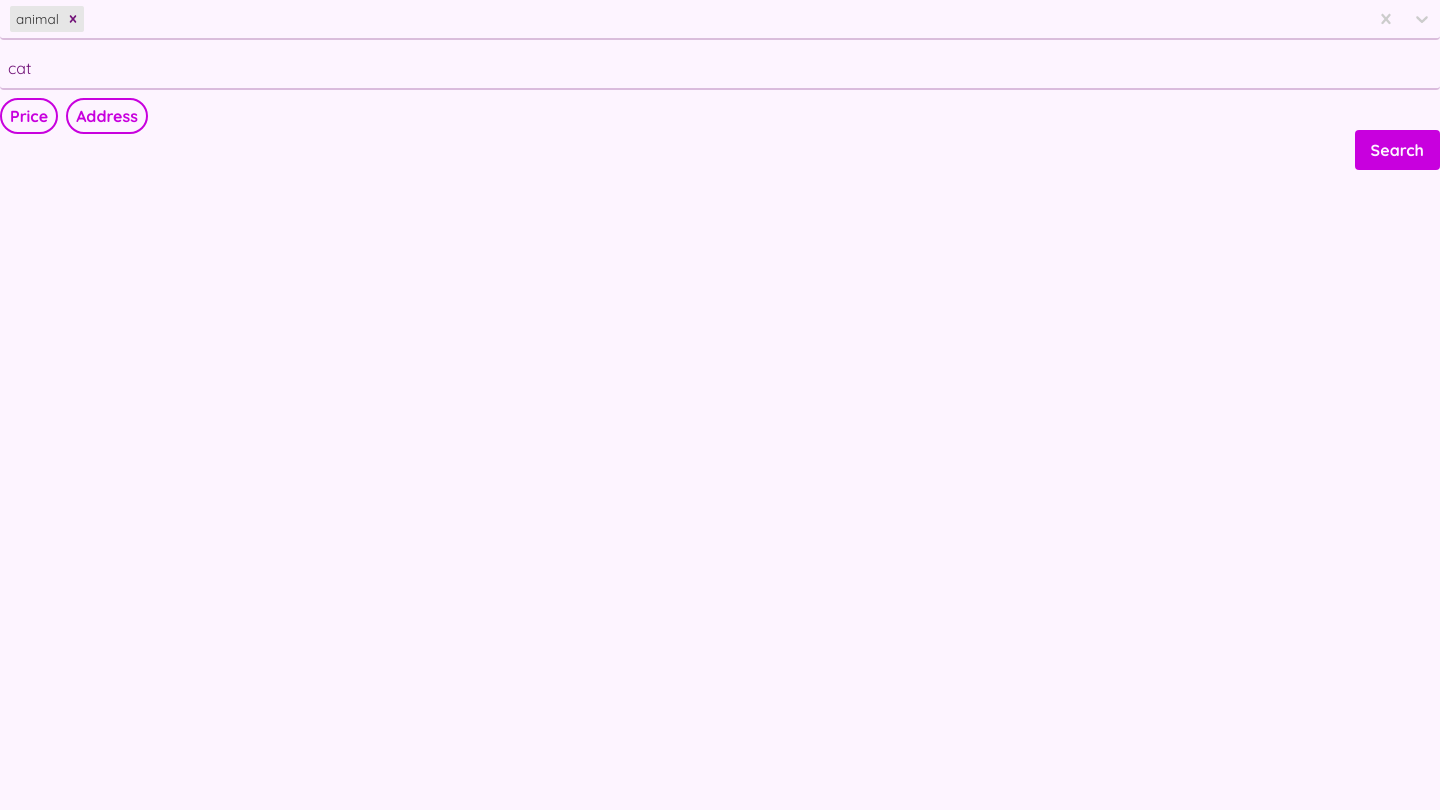
Test: doesn't fill in the minPrice input if its search param isn't defined
Click the button "Price": (29,116) [0,98,58,134]
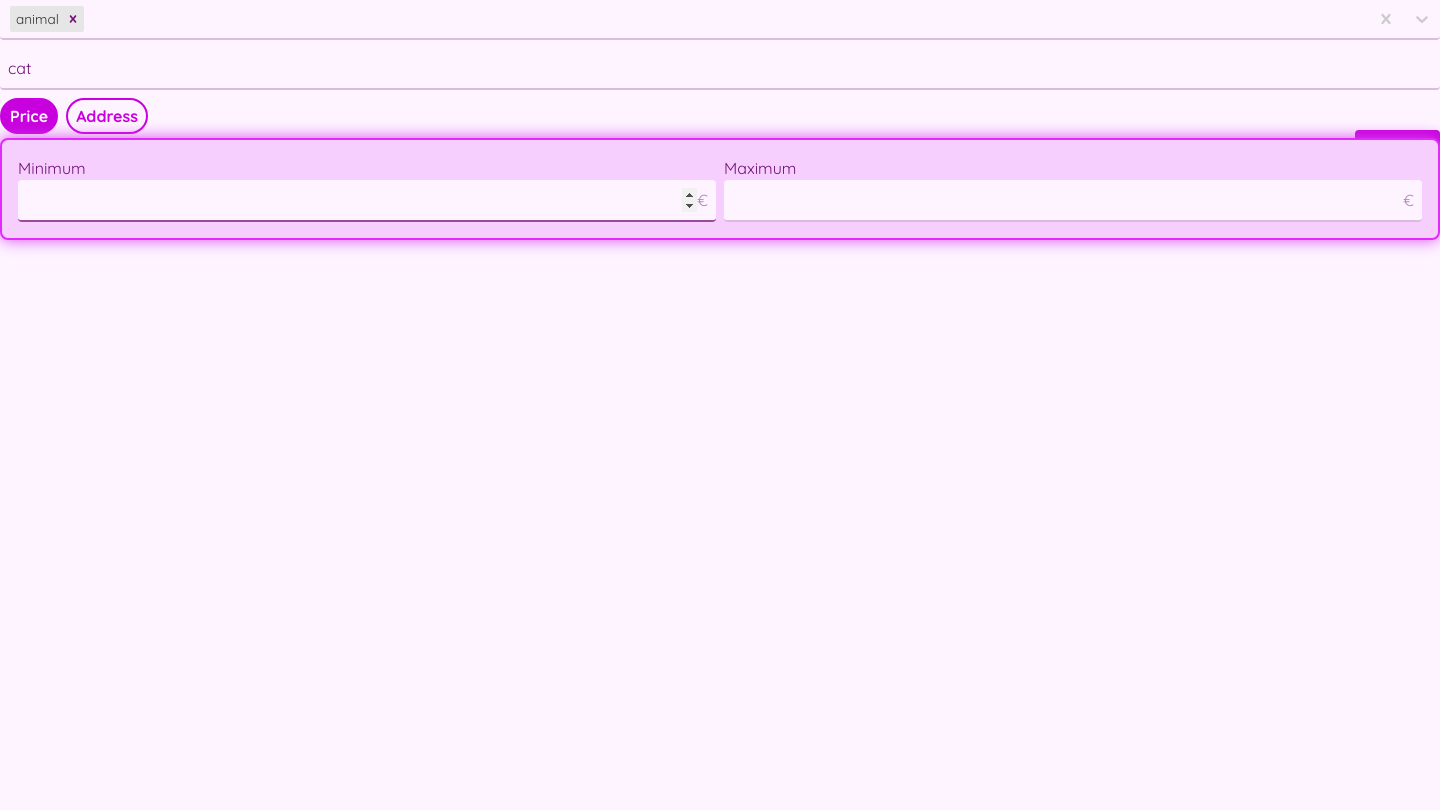
Expected: the number field labelled "Minimum" is not empty, [26,188,697,212]
